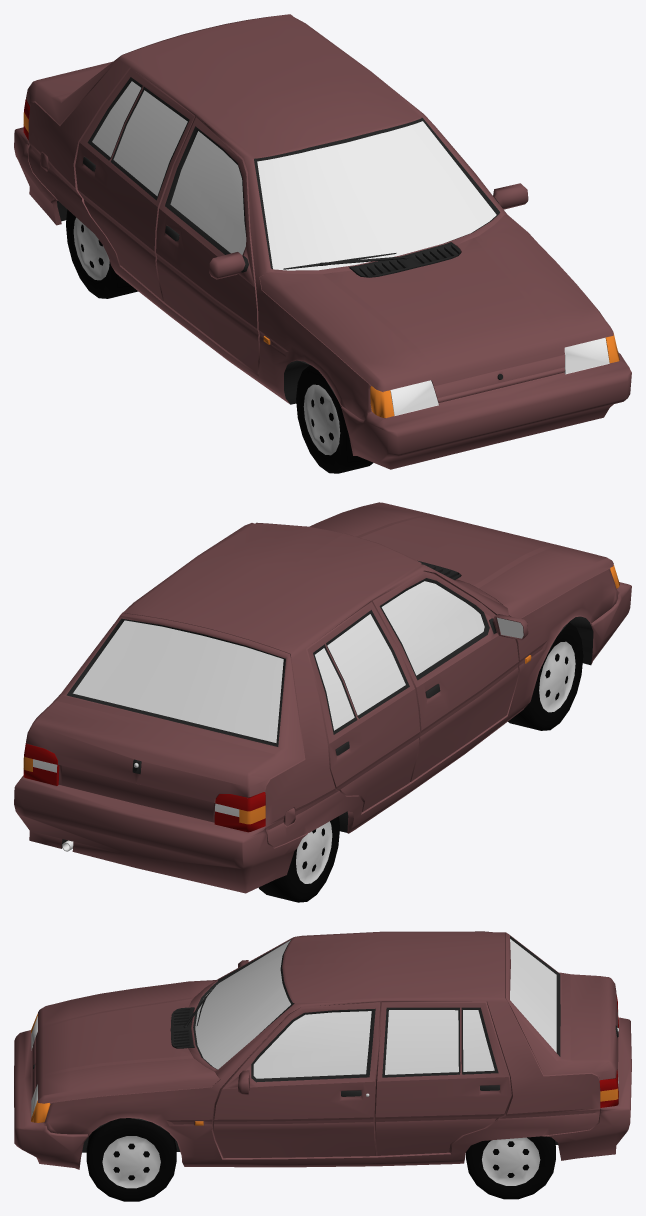
File: SIM_Game_Car_1.fbx
The picture shows the model from 3 angles, top to bottom: view 1: azimuth 30°, elevation 25°; view 2: azimuth 150°, elevation 25°; view 3: azimuth 270°, elevation 25°; orthographic projection. The views are drawn at different scales.
Parts seen in each view (by area): view 1: Body, Wheel.FR, Wheel.RR; view 2: Body, Wheel.FR, Wheel.RR; view 3: Body, Wheel.FL, Wheel.RL.
Part boxes in pixels (x1=…): Body: x1=14, y1=14, x2=631, y2=469; Wheel.FR: x1=296, y1=365, x2=373, y2=473; Wheel.RR: x1=66, y1=209, x2=138, y2=298; Body: x1=14, y1=502, x2=631, y2=893; Wheel.FR: x1=508, y1=622, x2=583, y2=730; Wheel.RR: x1=258, y1=816, x2=339, y2=902; Body: x1=14, y1=931, x2=631, y2=1169; Wheel.FL: x1=86, y1=1118, x2=176, y2=1201; Wheel.RL: x1=466, y1=1136, x2=555, y2=1199.
Size of the model in its own units: 190 by 139 by 402.
